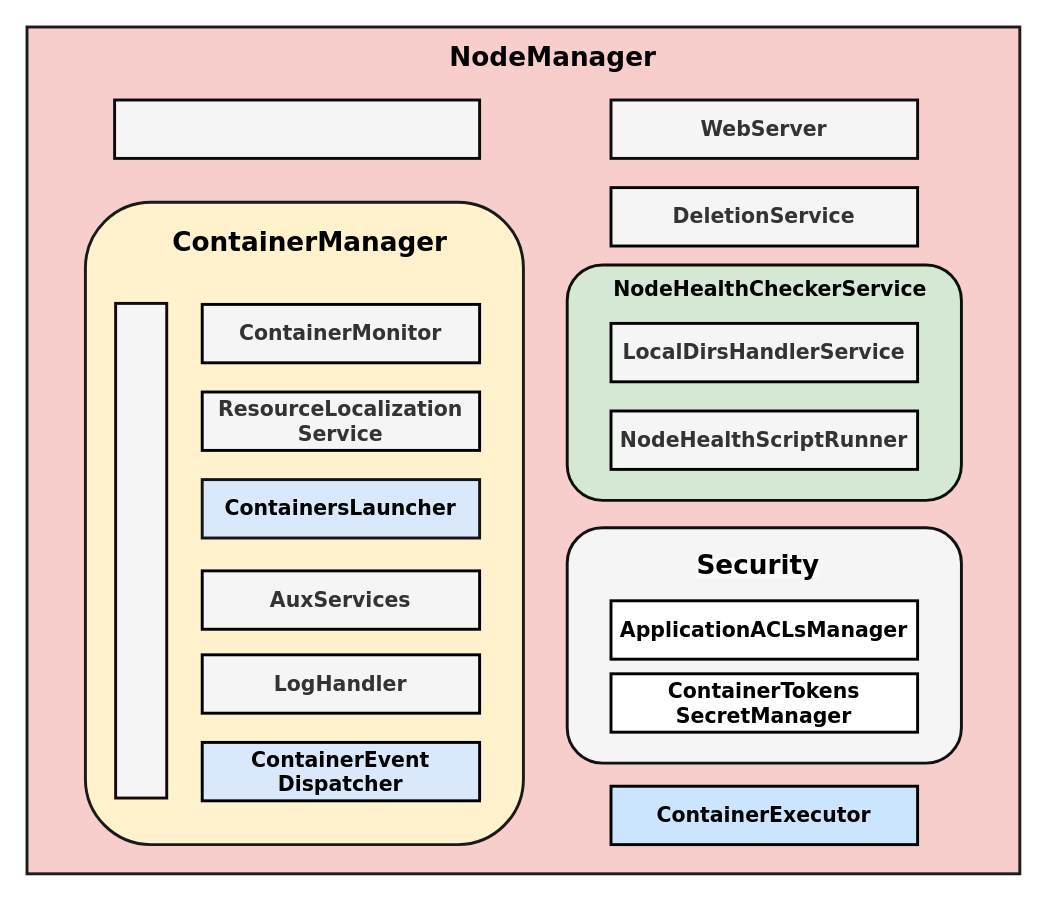
Image size: 1045x899. Some labels were removed from this diagram. Here are the shapes that lost their labels. From the top down, the centre of each, then its label:
At point 296,128: "NodeStatusUpdater".
At point 140,550: "RPC Server".
